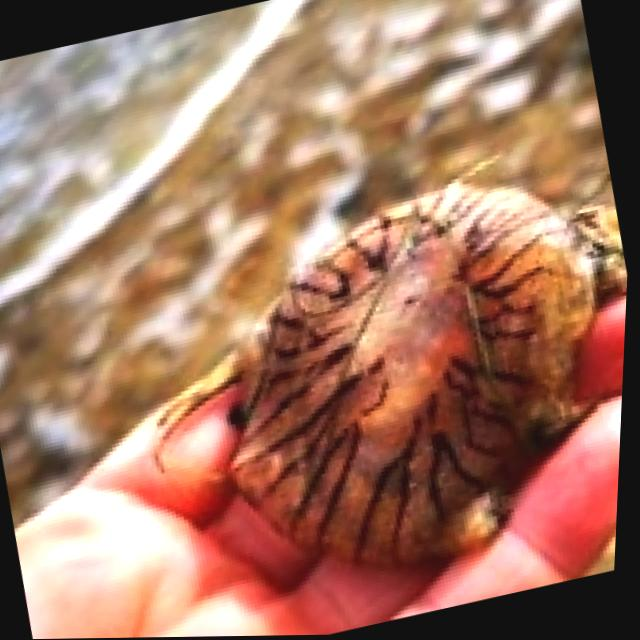Jellyfish: (104, 136, 635, 622)
